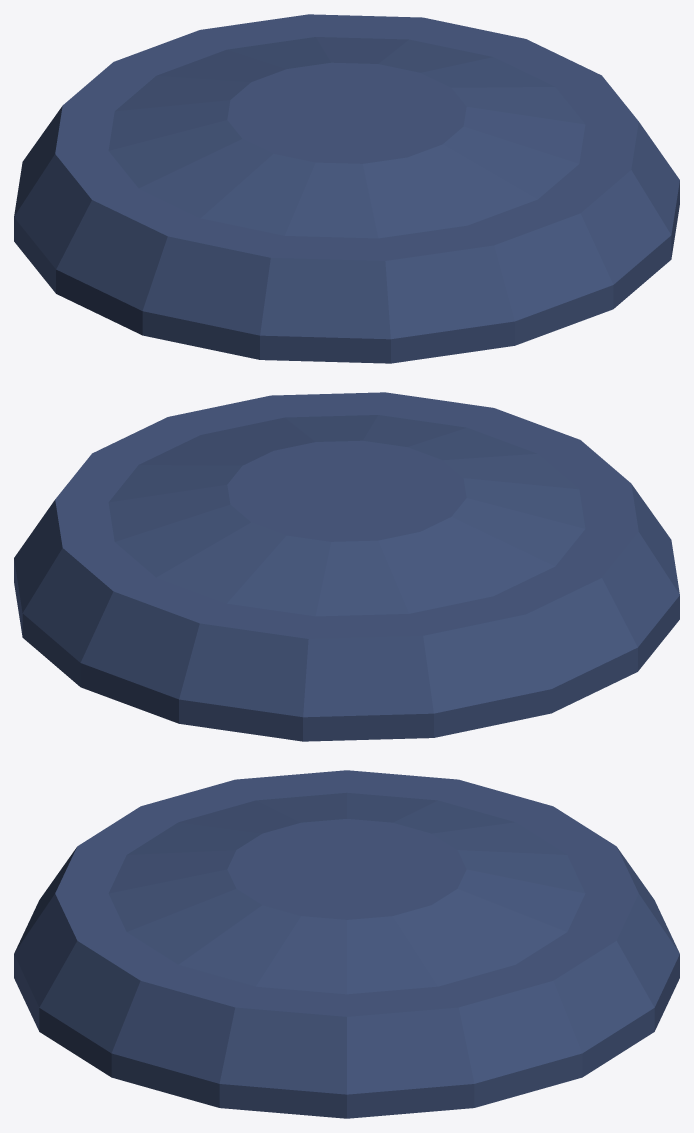
The model's file is Shield_5_a_bl.fbx.
The picture shows the model from 3 angles, top to bottom: view 1: azimuth 30°, elevation 25°; view 2: azimuth 150°, elevation 25°; view 3: azimuth 270°, elevation 25°; orthographic projection.
Visible parts, largest first — view 1: Circle.409; view 2: Circle.409; view 3: Circle.409.
Boxes of the visible parts, bbox=[...] form: Circle.409: bbox=[14, 14, 679, 363]; Circle.409: bbox=[14, 392, 679, 741]; Circle.409: bbox=[14, 770, 679, 1118].
Bounding box in the file's own units: 50 × 15.06 × 50.
